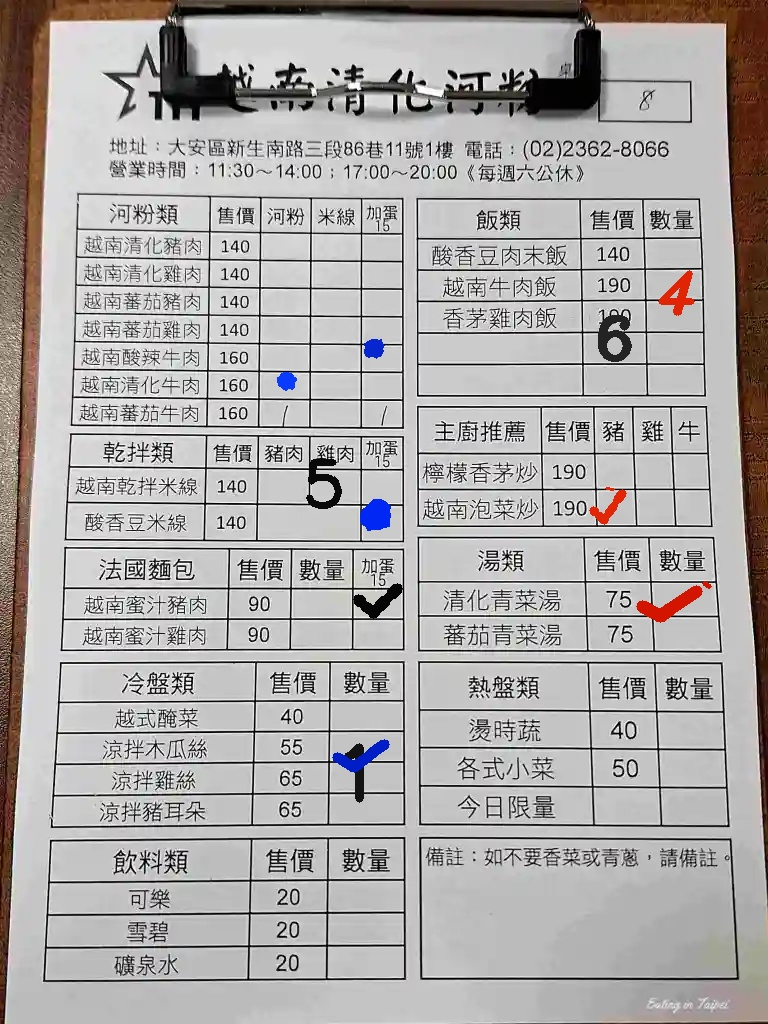marked_circle: (362, 502, 402, 539), (260, 371, 309, 399), (361, 342, 401, 372)
marked_number_1: (332, 761, 401, 796)
marked_number_4: (643, 268, 703, 298)
marked_number_5: (309, 469, 361, 502)
marked_number_6: (585, 331, 645, 361)
marked_tick: (649, 583, 718, 618), (332, 732, 401, 767), (353, 585, 405, 618), (597, 488, 637, 525)
